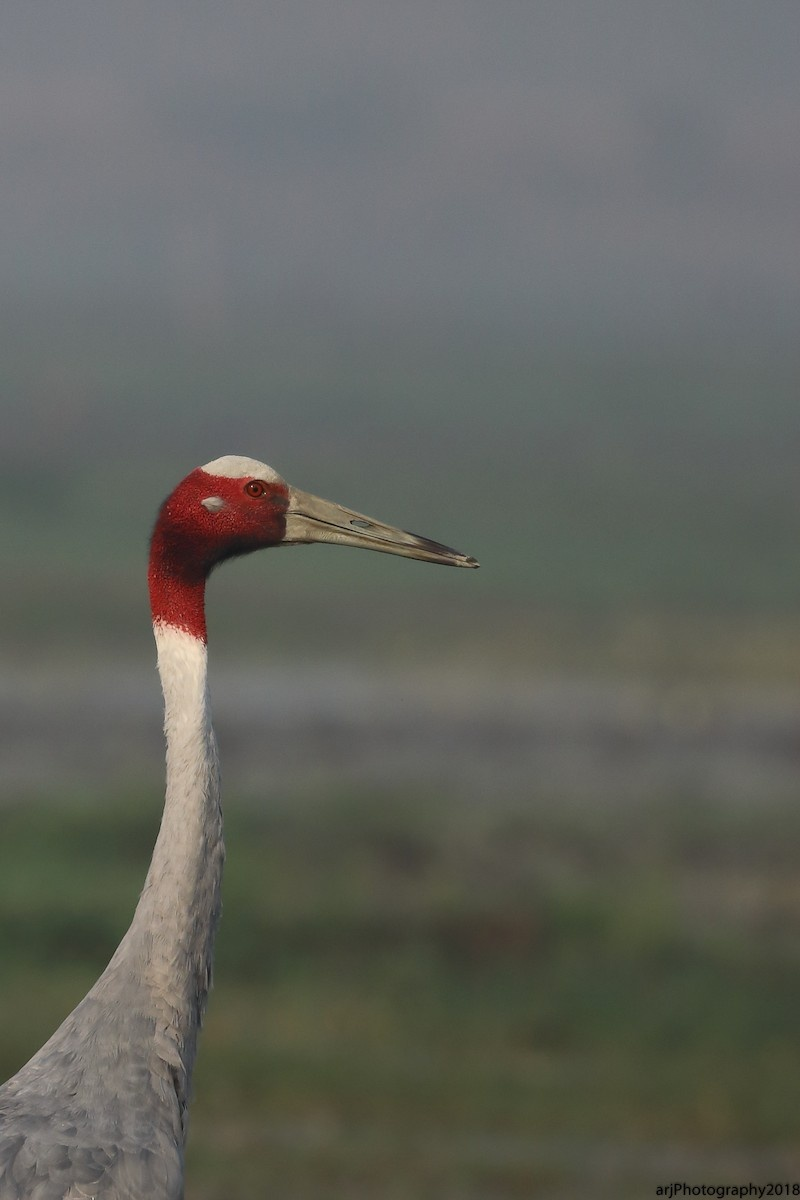crane: (1, 441, 490, 1200)
